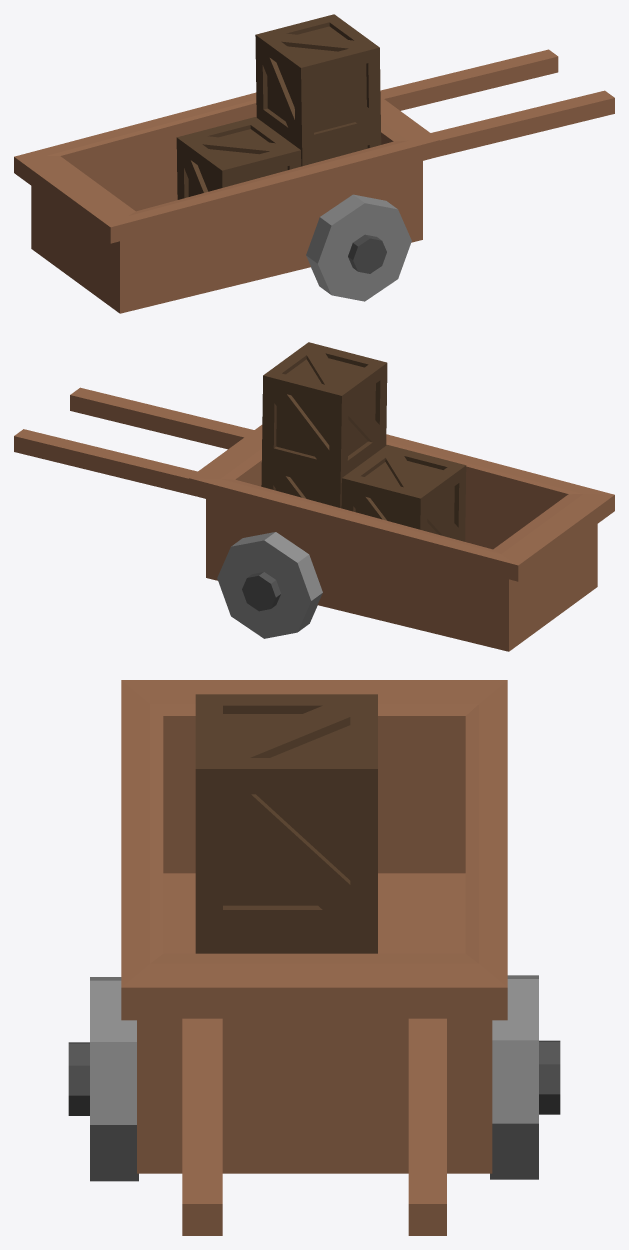
The model's file is schubkarre.fbx.
3 renders of one model, top to bottom at view 1: azimuth 30°, elevation 25°; view 2: azimuth 150°, elevation 25°; view 3: azimuth 270°, elevation 25°, orthographic. The views are drawn at different scales.
Visible parts, largest first — view 1: Cube, Cube.002, Cylinder.001; view 2: Cube, Cube.002, Cylinder.001; view 3: Cube, Cube.002, Cylinder.001.
Boxes of the visible parts, box(x1,y1,x2,y2) form: Cube: box(14, 49, 614, 313); Cube.002: box(176, 14, 381, 199); Cylinder.001: box(306, 194, 411, 301); Cube: box(14, 387, 614, 651); Cube.002: box(261, 342, 466, 541); Cylinder.001: box(217, 532, 322, 638); Cube: box(121, 680, 507, 1235); Cube.002: box(195, 694, 377, 953); Cylinder.001: box(68, 975, 560, 1181).
Bounding box in the file's own units: 1802 × 744 × 738.
